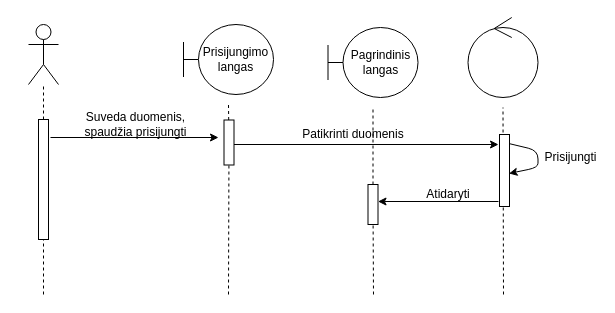
This 615x313 diagram has some shape labels left out. The centre of each missing label's shape, as x and y in pixels:
Serverio kontroleris: the point at 502,57
Vartotojas: the point at 43,54
